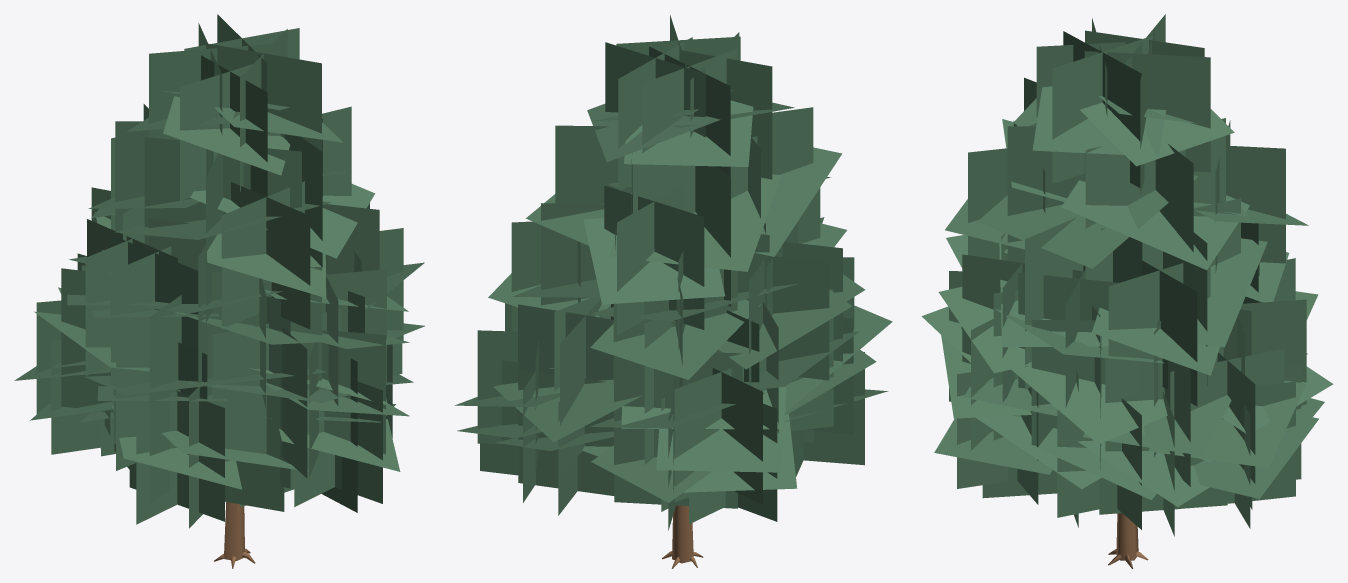
File: pin_2_loin.glb
3 renders of one model, left to right at view 1: azimuth 30°, elevation 25°; view 2: azimuth 150°, elevation 25°; view 3: azimuth 270°, elevation 25°, orthographic.
Visible parts, largest first — view 1: Pin_T2_Leger_Loin; view 2: Pin_T2_Leger_Loin; view 3: Pin_T2_Leger_Loin.
Part boxes in pixels (<box>): Pin_T2_Leger_Loin: <box>14,14,424,568</box>; Pin_T2_Leger_Loin: <box>454,15,892,568</box>; Pin_T2_Leger_Loin: <box>921,14,1333,568</box>.
Bounding box in the file's own units: 8.32 × 11.74 × 8.5.
